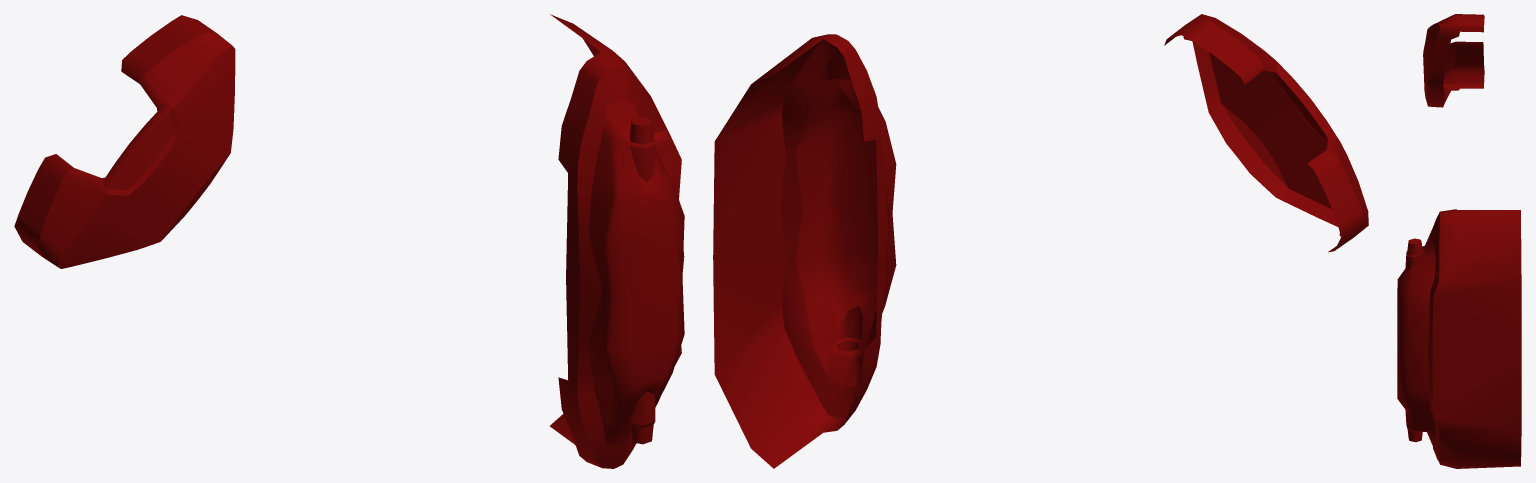
The model's file is Caliper_Perf_R.obj.
3 renders of one model, left to right at view 1: azimuth 30°, elevation 25°; view 2: azimuth 150°, elevation 25°; view 3: azimuth 270°, elevation 25°, orthographic. The views are drawn at different scales.
Parts seen in each view (by area): view 1: Caliper_Perf_R; view 2: Caliper_Perf_R; view 3: Caliper_Perf_R.
Part boxes in pixels (box(x1,y1,x2,y2)): Caliper_Perf_R: box(14, 14, 684, 468); Caliper_Perf_R: box(713, 14, 1368, 468); Caliper_Perf_R: box(1397, 14, 1521, 468).
Bounding box in the file's own units: 0.3793 × 0.3056 × 0.1042.
